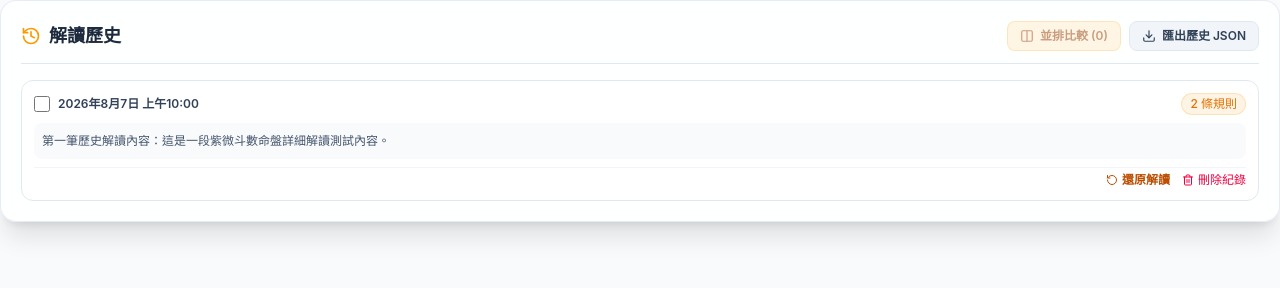
HistoryPanel › shows an export error instead of throwing when URL.createObjectURL is unavailable
Click the button "匯出歷史 JSON".
click(1194, 36)  # box [1129, 21, 1259, 51]
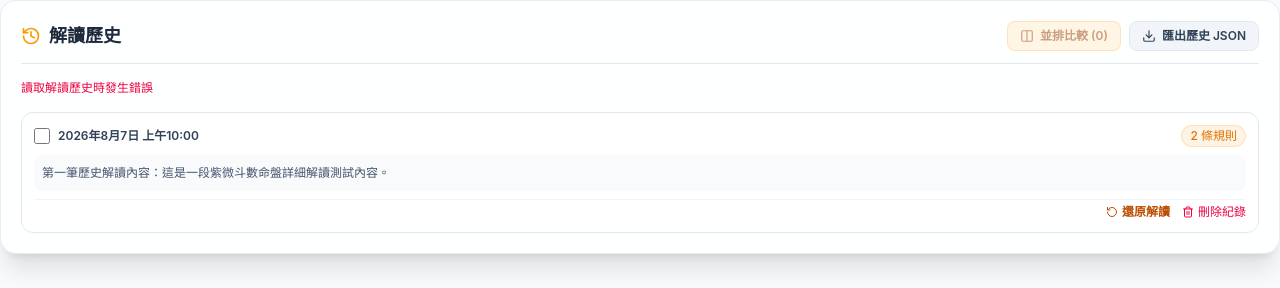
Now the message reads "讀取解讀歷史時發生錯誤", box [21, 80, 153, 95]
